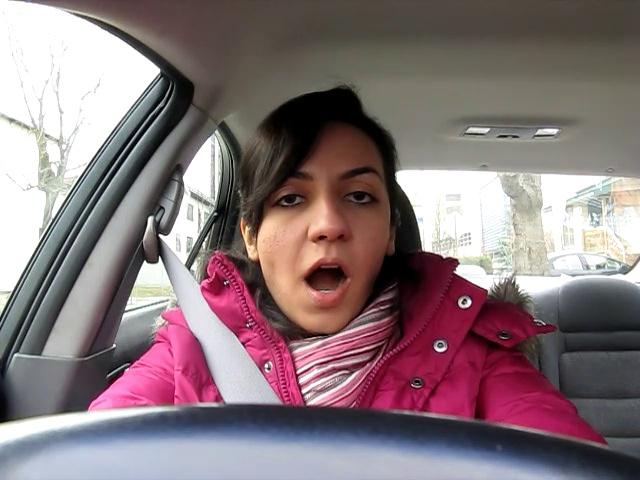close_eyeL: (262, 184, 322, 218)
close_eyeR: (328, 185, 393, 217)
yawn: (284, 255, 365, 305)
